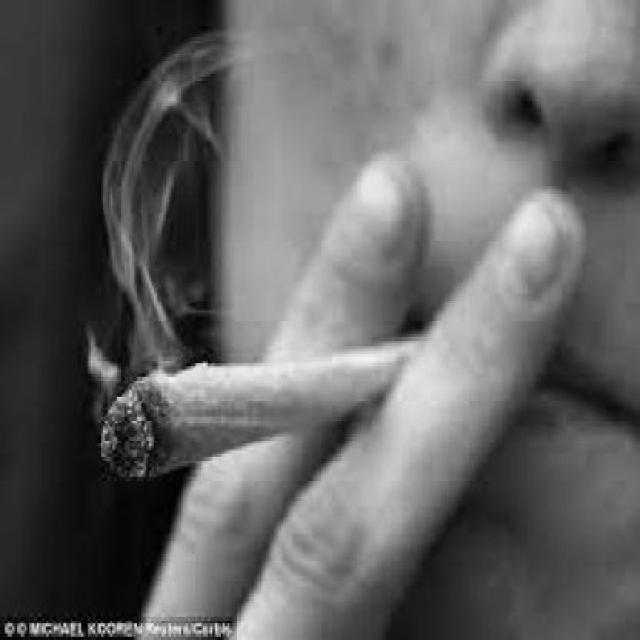smoke: (91, 331, 423, 494)
